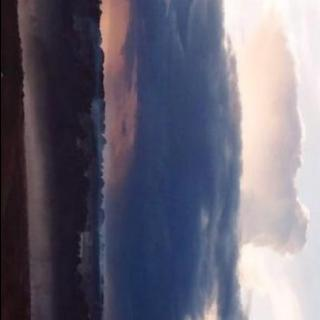Stratocumulus: (87, 0, 320, 320)
